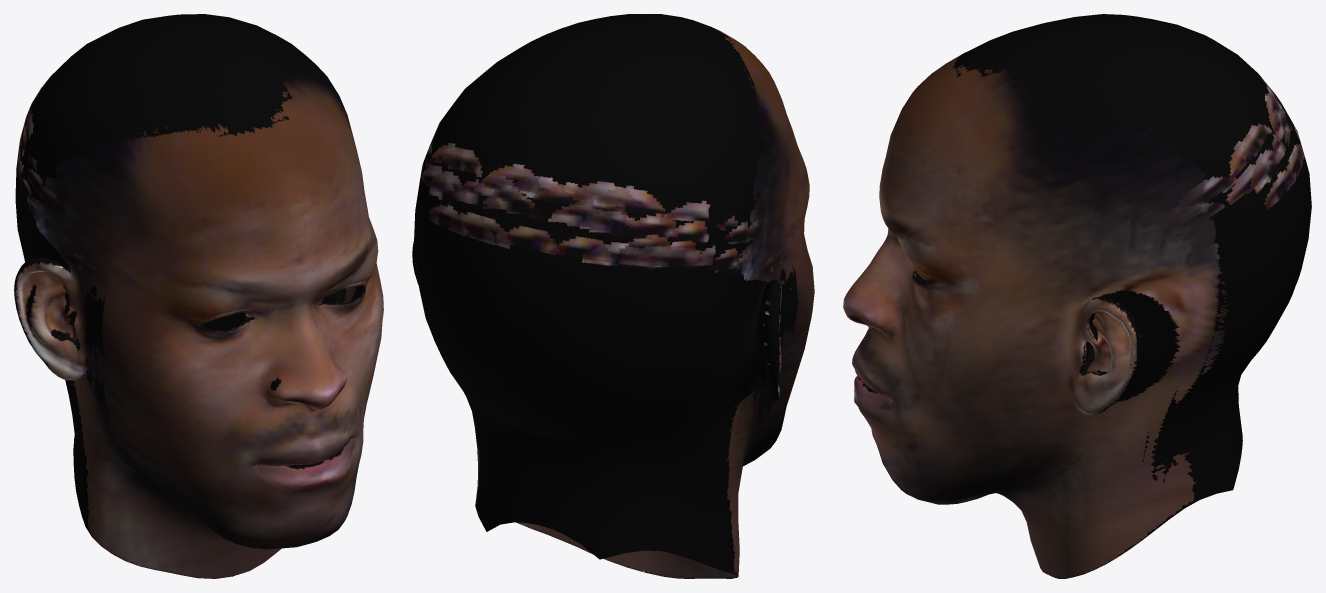
Rendered from JawFront.obj.
The picture shows the model from 3 angles, left to right: view 1: azimuth 30°, elevation 25°; view 2: azimuth 150°, elevation 25°; view 3: azimuth 270°, elevation 25°; orthographic projection. The views are drawn at different scales.
Bounding box in the file's own units: 191 × 278 × 224.
